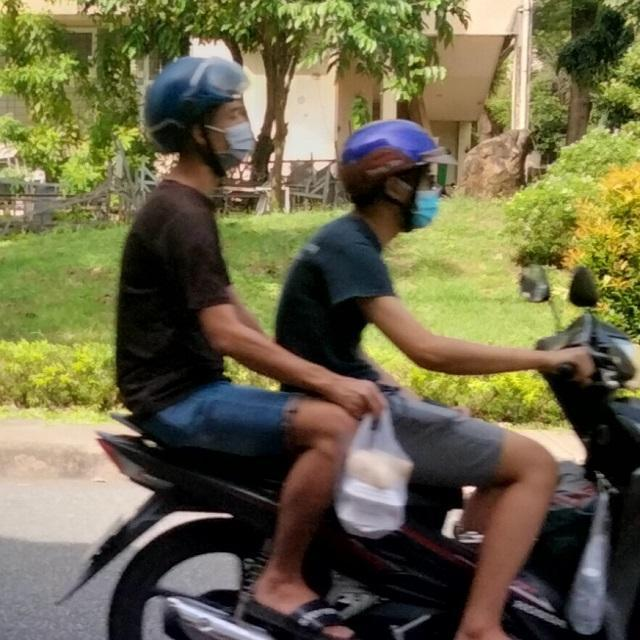Helmet: (337, 114, 455, 240), (146, 55, 254, 177)
